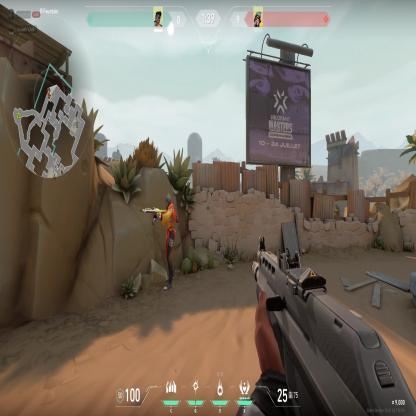enemy: (152, 191, 178, 292)
